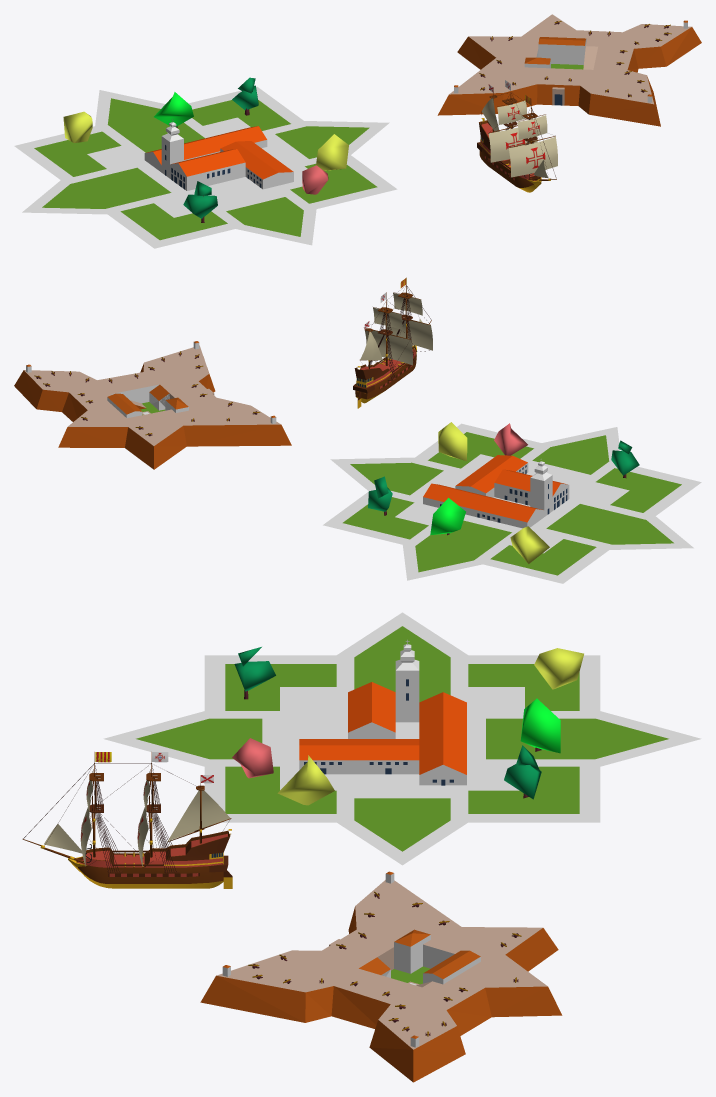
File: proj.glb
3 renders of one model, top to bottom at view 1: azimuth 30°, elevation 25°; view 2: azimuth 150°, elevation 25°; view 3: azimuth 270°, elevation 25°, orthographic. The views are drawn at different scales.
Parts seen in each view (by area): view 1: Plane.095, Plane.001, Plane.019, Cube.083, Plane.115, Plane.114, Plane.162, Plane.116, Plane.119; view 2: Plane.095, Plane.001, Plane.019, Cube.083, Plane.114, Plane.162, Plane.115; view 3: Plane.095, Plane.001, Plane.019, Cube.083, Plane.114, Plane.117.
Boxes of the visible parts, box(x1,y1,x2,y2) form: Plane.095: box(14, 86, 397, 248); Plane.001: box(437, 14, 701, 126); Plane.019: box(144, 119, 293, 190); Cube.083: box(63, 77, 348, 222); Plane.115: box(509, 136, 557, 177); Plane.114: box(477, 120, 541, 192); Plane.162: box(488, 127, 537, 162); Plane.116: box(517, 115, 547, 139); Plane.119: box(497, 100, 526, 124); Plane.095: box(323, 423, 701, 583); Plane.001: box(14, 345, 291, 469); Plane.019: box(423, 455, 569, 528); Cube.083: box(368, 422, 639, 563); Plane.114: box(353, 347, 416, 403); Plane.162: box(364, 329, 412, 365); Plane.115: box(386, 319, 432, 350); Plane.095: box(103, 612, 701, 865); Plane.001: box(200, 880, 562, 1082); Plane.019: box(299, 639, 466, 785); Cube.083: box(232, 647, 583, 805); Plane.114: box(76, 830, 230, 888); Plane.117: box(168, 789, 230, 840).
Bounding box in the file's own units: 9.73 × 1.33 × 6.01.
31 materials, 4 textured.
